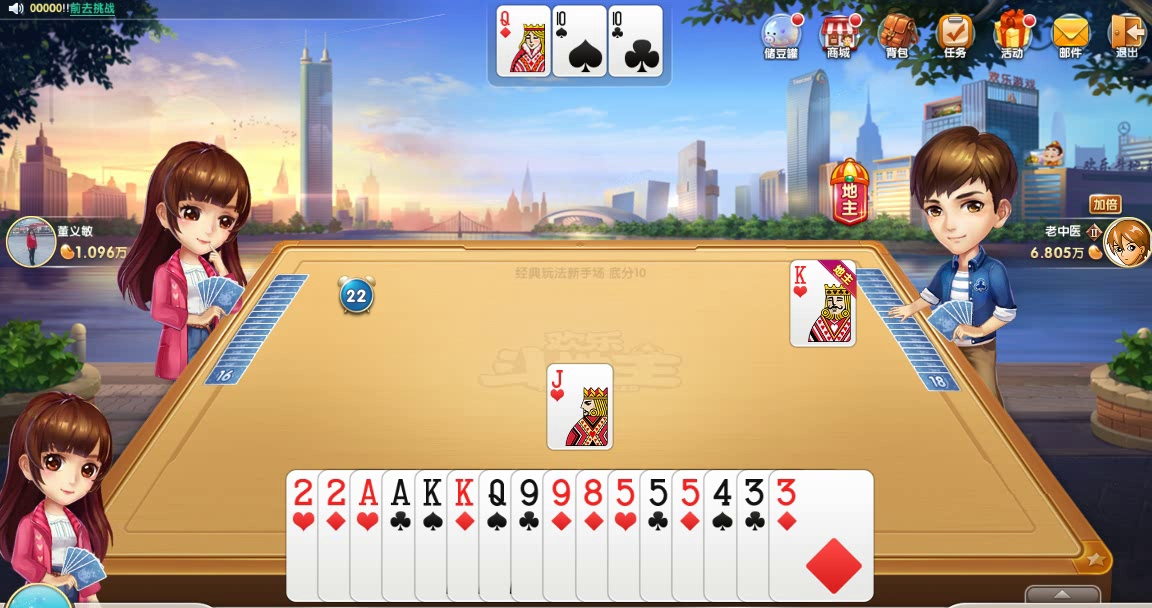10~2: (608, 5, 663, 76)
10~4: (552, 5, 607, 76)
11~3: (547, 362, 612, 449)
12~1: (495, 5, 550, 76)
12~4: (477, 468, 585, 603)
13~1: (446, 468, 554, 603)
13~3: (788, 257, 856, 346)
13~4: (415, 468, 523, 603)
14~2: (382, 468, 490, 603)
14~3: (350, 468, 458, 603)
15~1: (317, 468, 425, 603)
15~3: (286, 468, 394, 603)
3~1: (767, 468, 875, 603)
3~2: (737, 468, 845, 603)
4~4: (704, 468, 812, 603)
5~1: (672, 468, 780, 603)
5~2: (638, 468, 746, 603)
5~3: (607, 468, 715, 603)
8~1: (574, 468, 682, 603)
9~1: (543, 468, 651, 603)
9~2: (511, 468, 619, 603)
